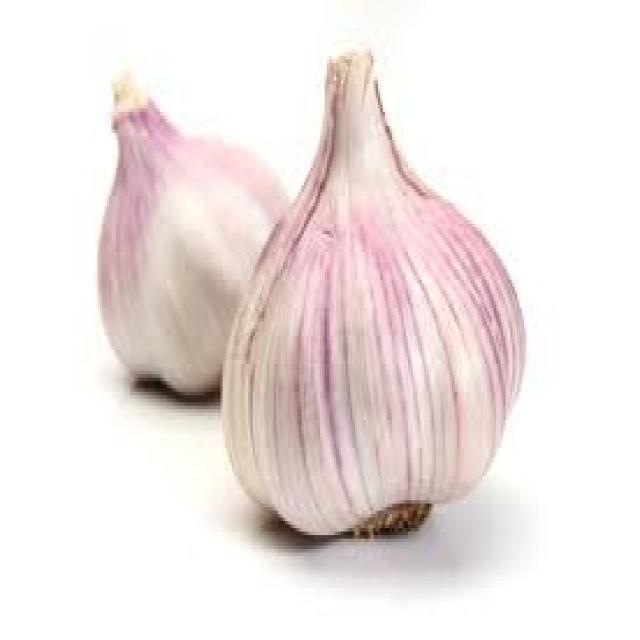Garlic: (211, 24, 603, 592)
